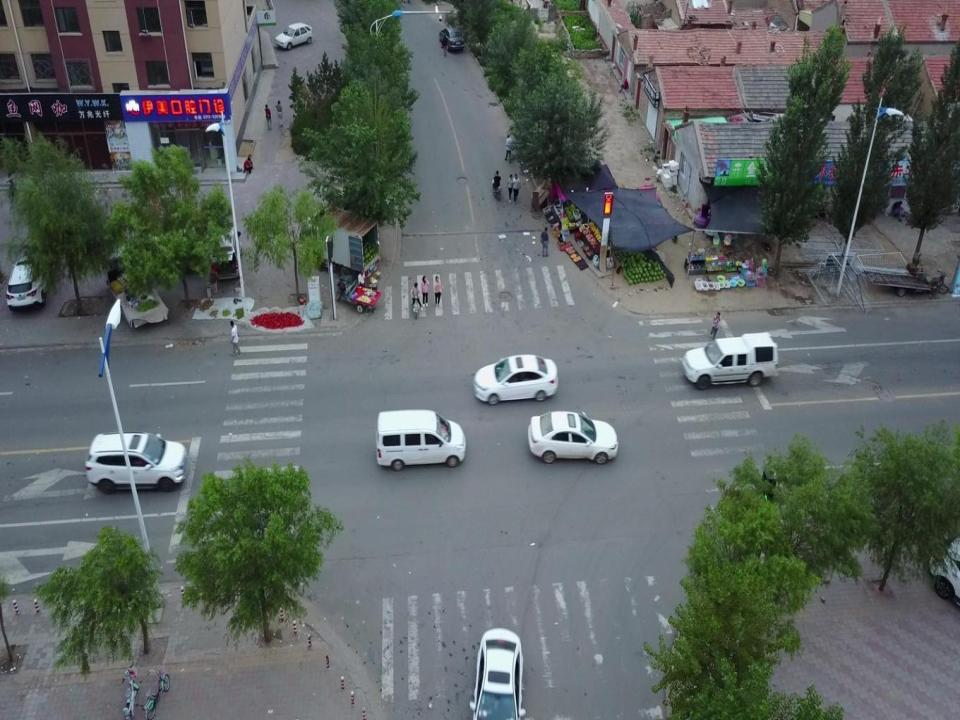car: (84, 432, 188, 493), (680, 331, 780, 391), (372, 408, 466, 468), (469, 627, 526, 720), (526, 410, 621, 465), (471, 351, 560, 407), (6, 250, 54, 312), (926, 526, 960, 610), (274, 22, 313, 50), (438, 27, 466, 52)
truck: (99, 246, 166, 329), (302, 207, 381, 277)
van: (210, 226, 242, 280)
